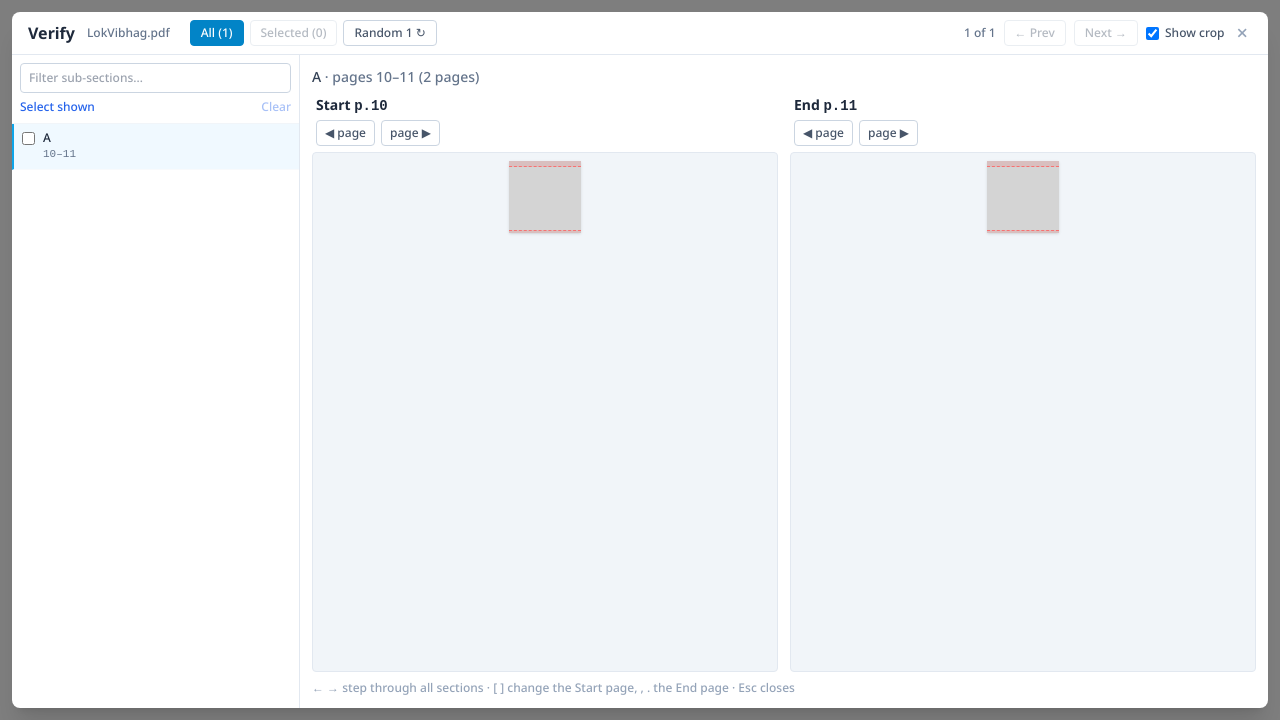
Test: reviewing neighbouring pages, and SET › SET is blocked when start would pass end, or end would go before start
The image size is (1280, 720).
Click the button with aria-label "Start next page": (410, 133) [381,120,440,146]
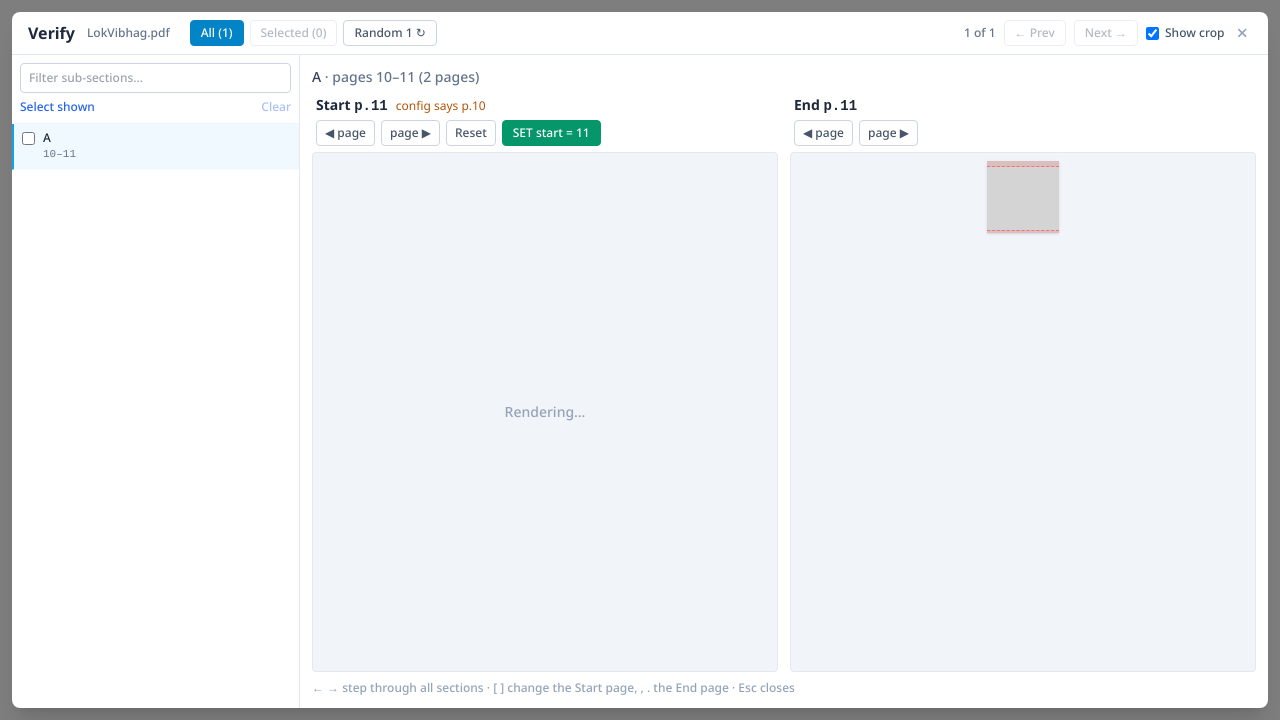
Click the button with aria-label "Start next page": (410, 133) [381,120,440,146]
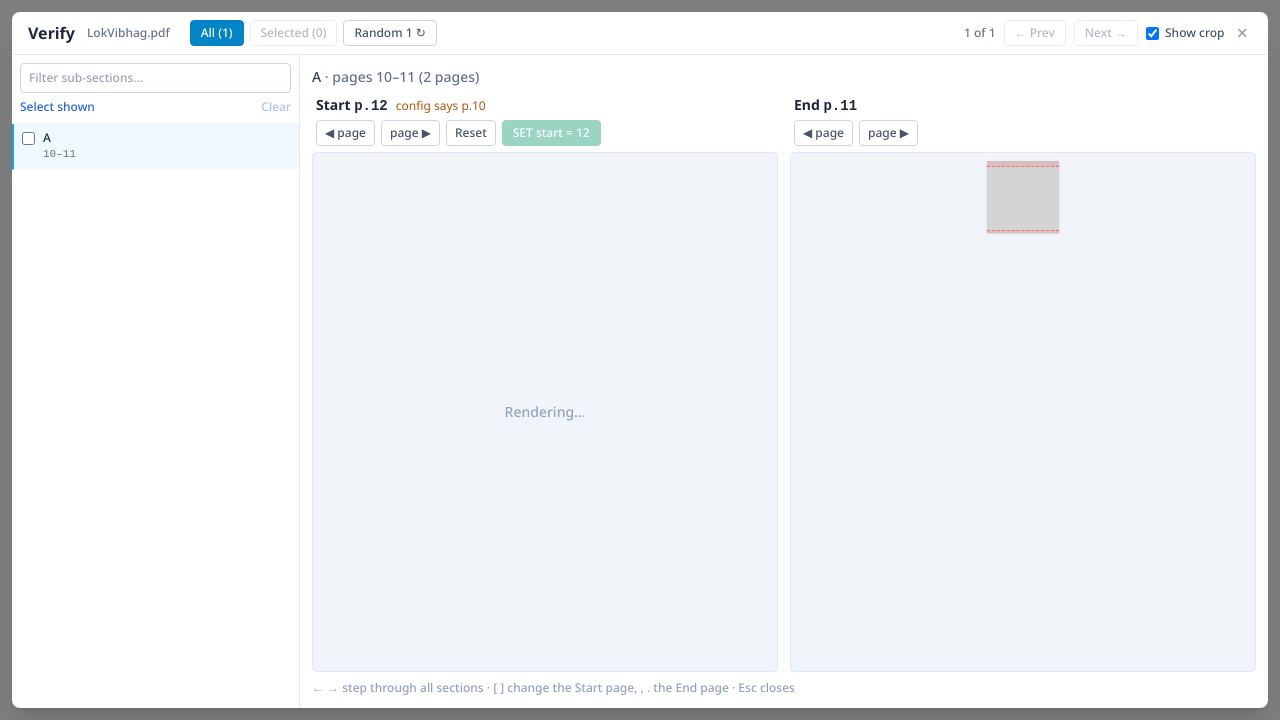
Expected: the button "SET start = 12" is disabled, [502,120,601,146]
Click the button with aria-label "Start previous page": (346, 133) [316,120,375,146]
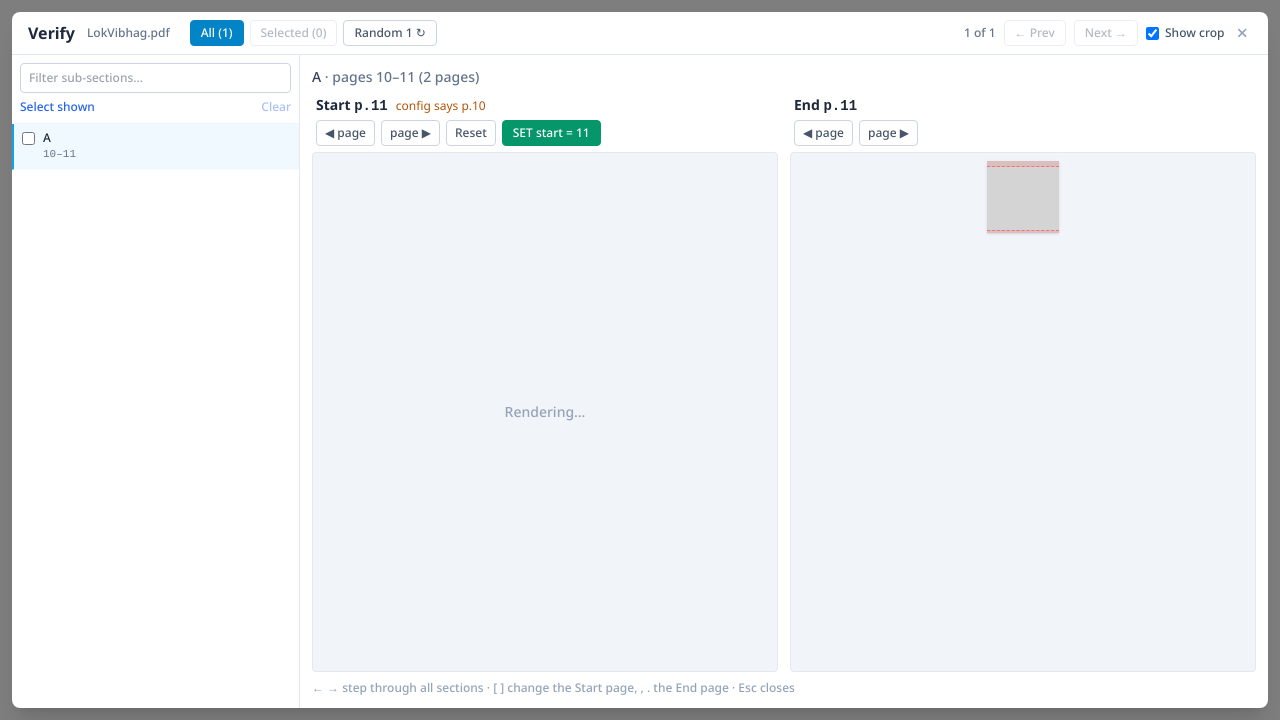
Expected: the button "SET start = 11" is enabled, [502,120,601,146]
Click the button with aria-label "End previous page": (824, 133) [794,120,853,146]
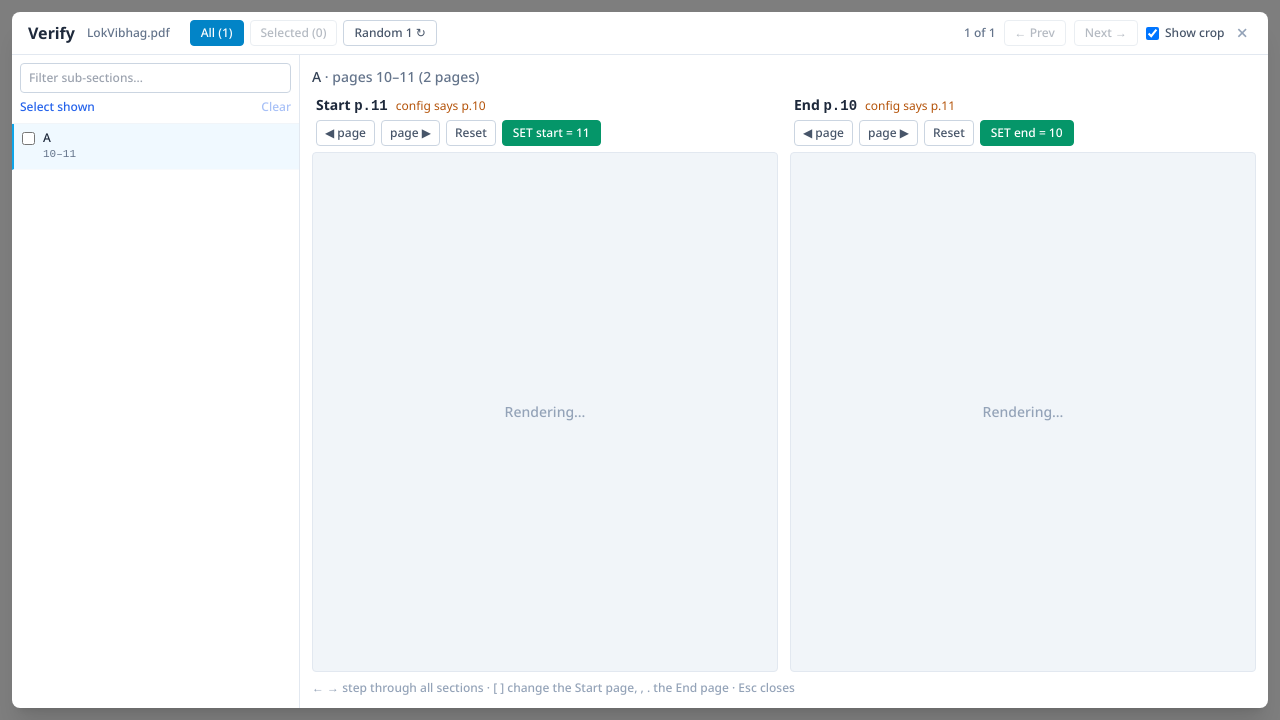
Click the button with aria-label "End previous page": (824, 133) [794,120,853,146]
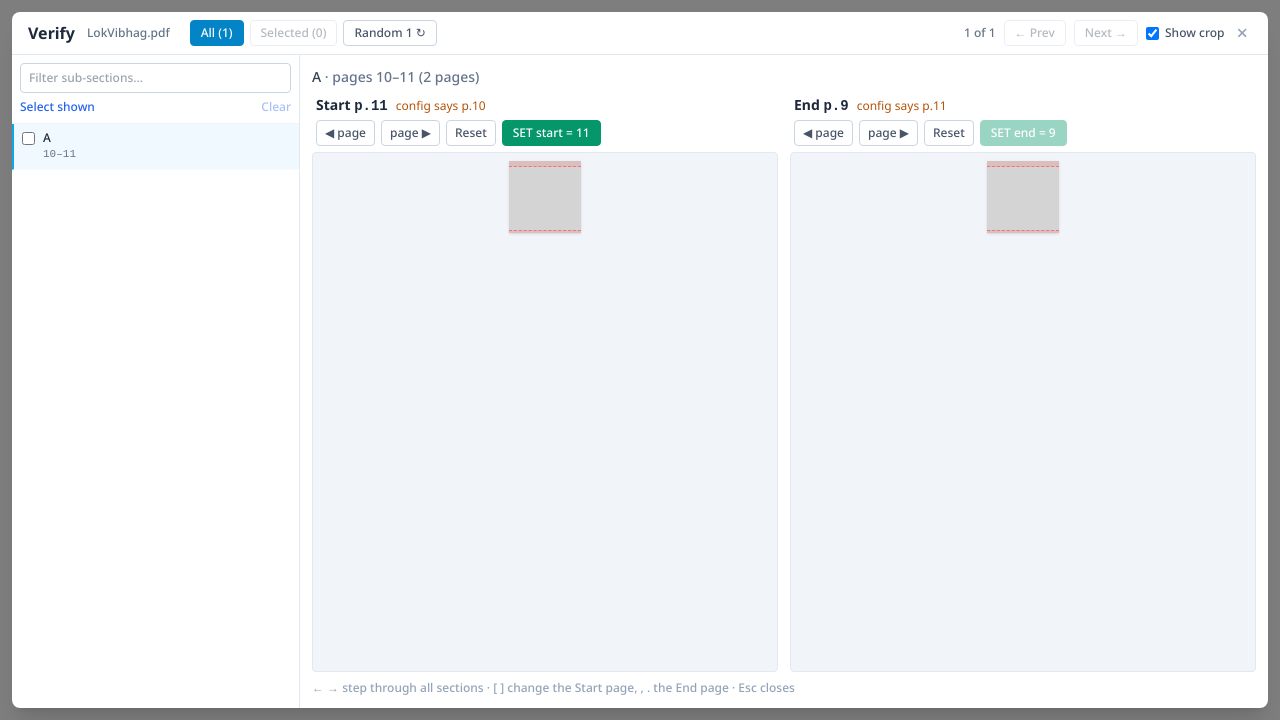
Expected: the button "SET end = 9" is disabled, [980,120,1067,146]
